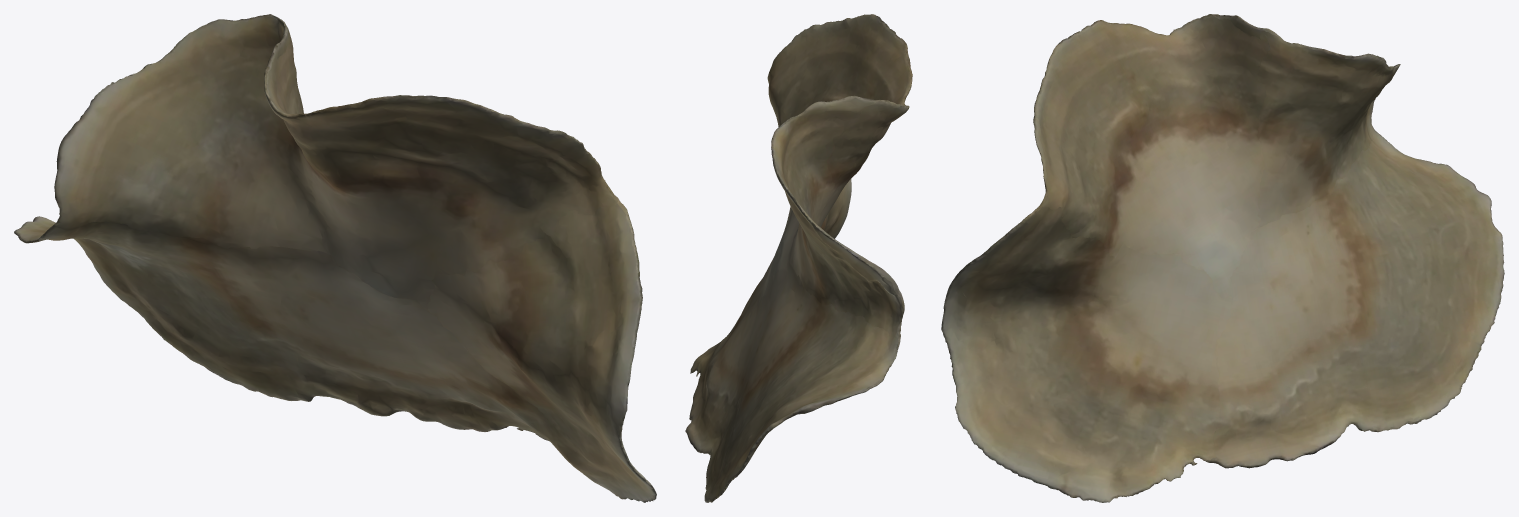
Rendered from cycloclypeus_carpenteri.glb.
3 views of the same model, side by side, from view 1: azimuth 30°, elevation 25°; view 2: azimuth 150°, elevation 25°; view 3: azimuth 270°, elevation 25° (orthographic). The views are drawn at different scales.
Visible parts, largest first — view 1: Object_2; view 2: Object_2; view 3: Object_2.
Part boxes in pixels (x1=…): Object_2: x1=14, y1=14, x2=656, y2=502; Object_2: x1=685, y1=14, x2=912, y2=502; Object_2: x1=941, y1=14, x2=1504, y2=502.
Bounding box in the file's own units: 0.3398 × 0.369 × 0.4868.
Materials: 1 (1 with a texture image).
